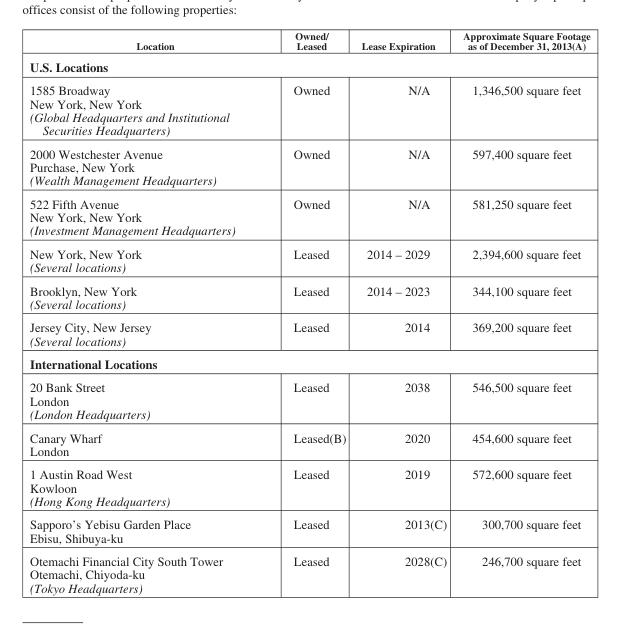table: (29, 29, 589, 594)
table column: (29, 29, 263, 594), (454, 29, 589, 594), (353, 29, 454, 594), (263, 29, 353, 594)
table column header: (29, 29, 589, 55)
table projected row header: (29, 351, 589, 375), (29, 55, 589, 78)
table row: (29, 78, 589, 141), (29, 141, 589, 191), (29, 191, 589, 241), (29, 375, 589, 425), (29, 462, 589, 512), (29, 549, 589, 594), (29, 241, 589, 278), (29, 278, 589, 315), (29, 425, 589, 462), (29, 512, 589, 549), (29, 315, 589, 351), (29, 29, 589, 55), (29, 351, 589, 375), (29, 55, 589, 78)
